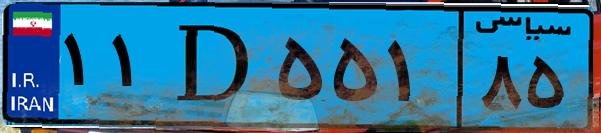1: (385, 28, 445, 110), (57, 26, 110, 100), (110, 28, 158, 98)
5: (270, 28, 330, 110), (330, 28, 385, 110), (525, 38, 570, 115)
8: (475, 38, 525, 113)
D: (158, 12, 270, 120)
